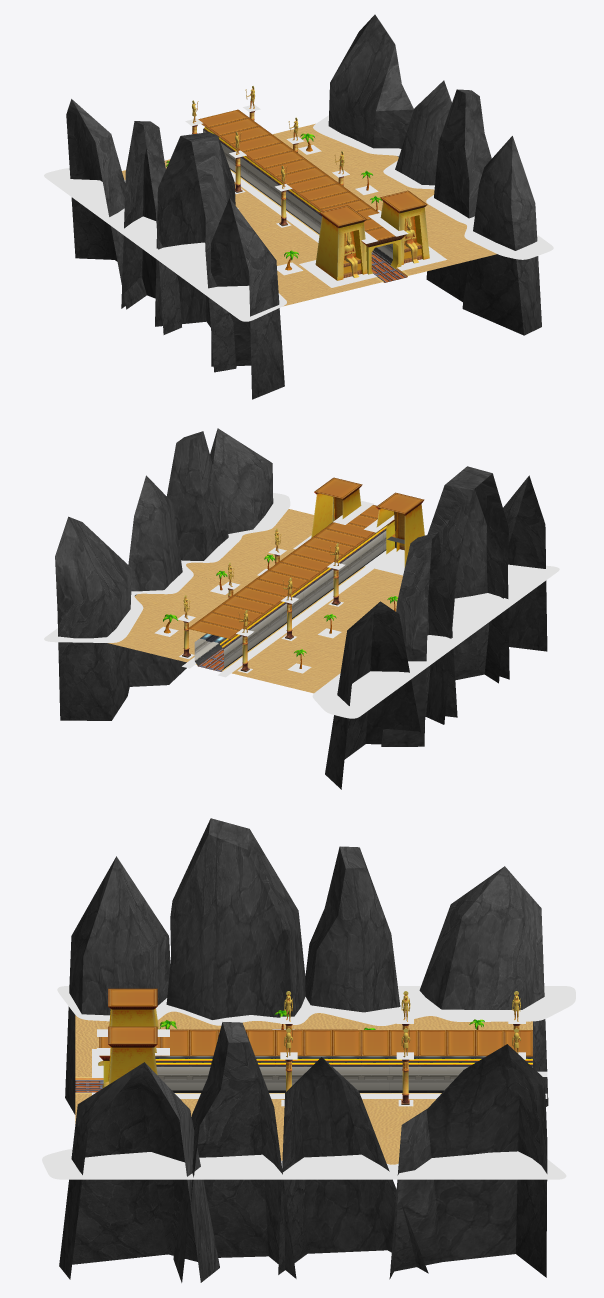
File: Egypt_06.fbx
3 views of the same model, one above another, from view 1: azimuth 30°, elevation 25°; view 2: azimuth 150°, elevation 25°; view 3: azimuth 270°, elevation 25° (orthographic). The views are drawn at different scales.
Visible parts, largest first — view 1: Egypt_06; view 2: Egypt_06; view 3: Egypt_06.
Part boxes in pixels (bbox=[...]): Egypt_06: bbox=[44, 14, 553, 399]; Egypt_06: bbox=[44, 428, 559, 789]; Egypt_06: bbox=[42, 818, 575, 1282].
Bounding box in the file's own units: 22617 × 13384 × 25170.
